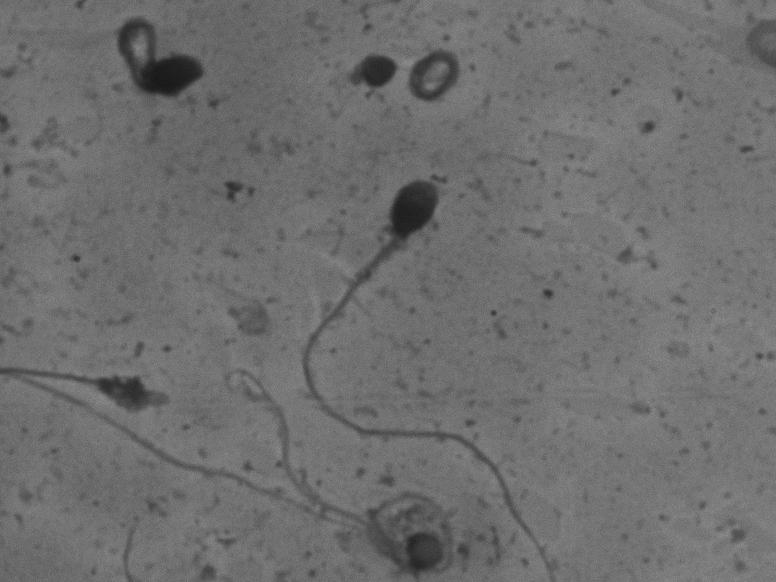Abnormal: (16, 376, 472, 572)
Normal: (281, 162, 580, 573)
